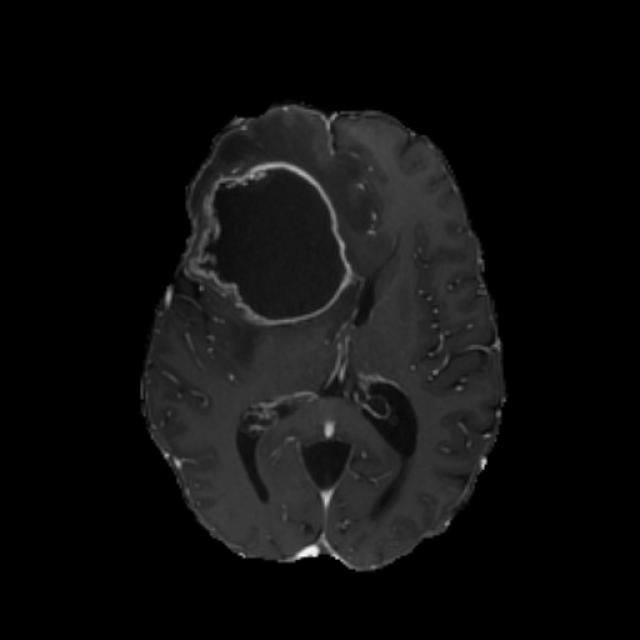negative: (193, 162, 353, 328)
